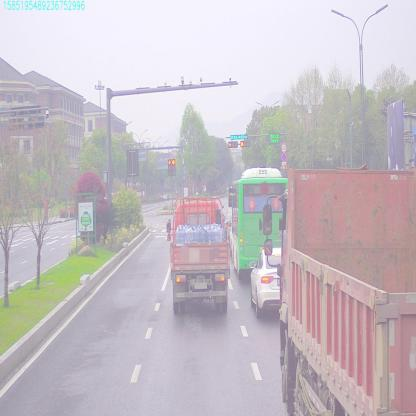traffic-light: (229, 133, 248, 140), (227, 140, 237, 148), (240, 140, 249, 146)
